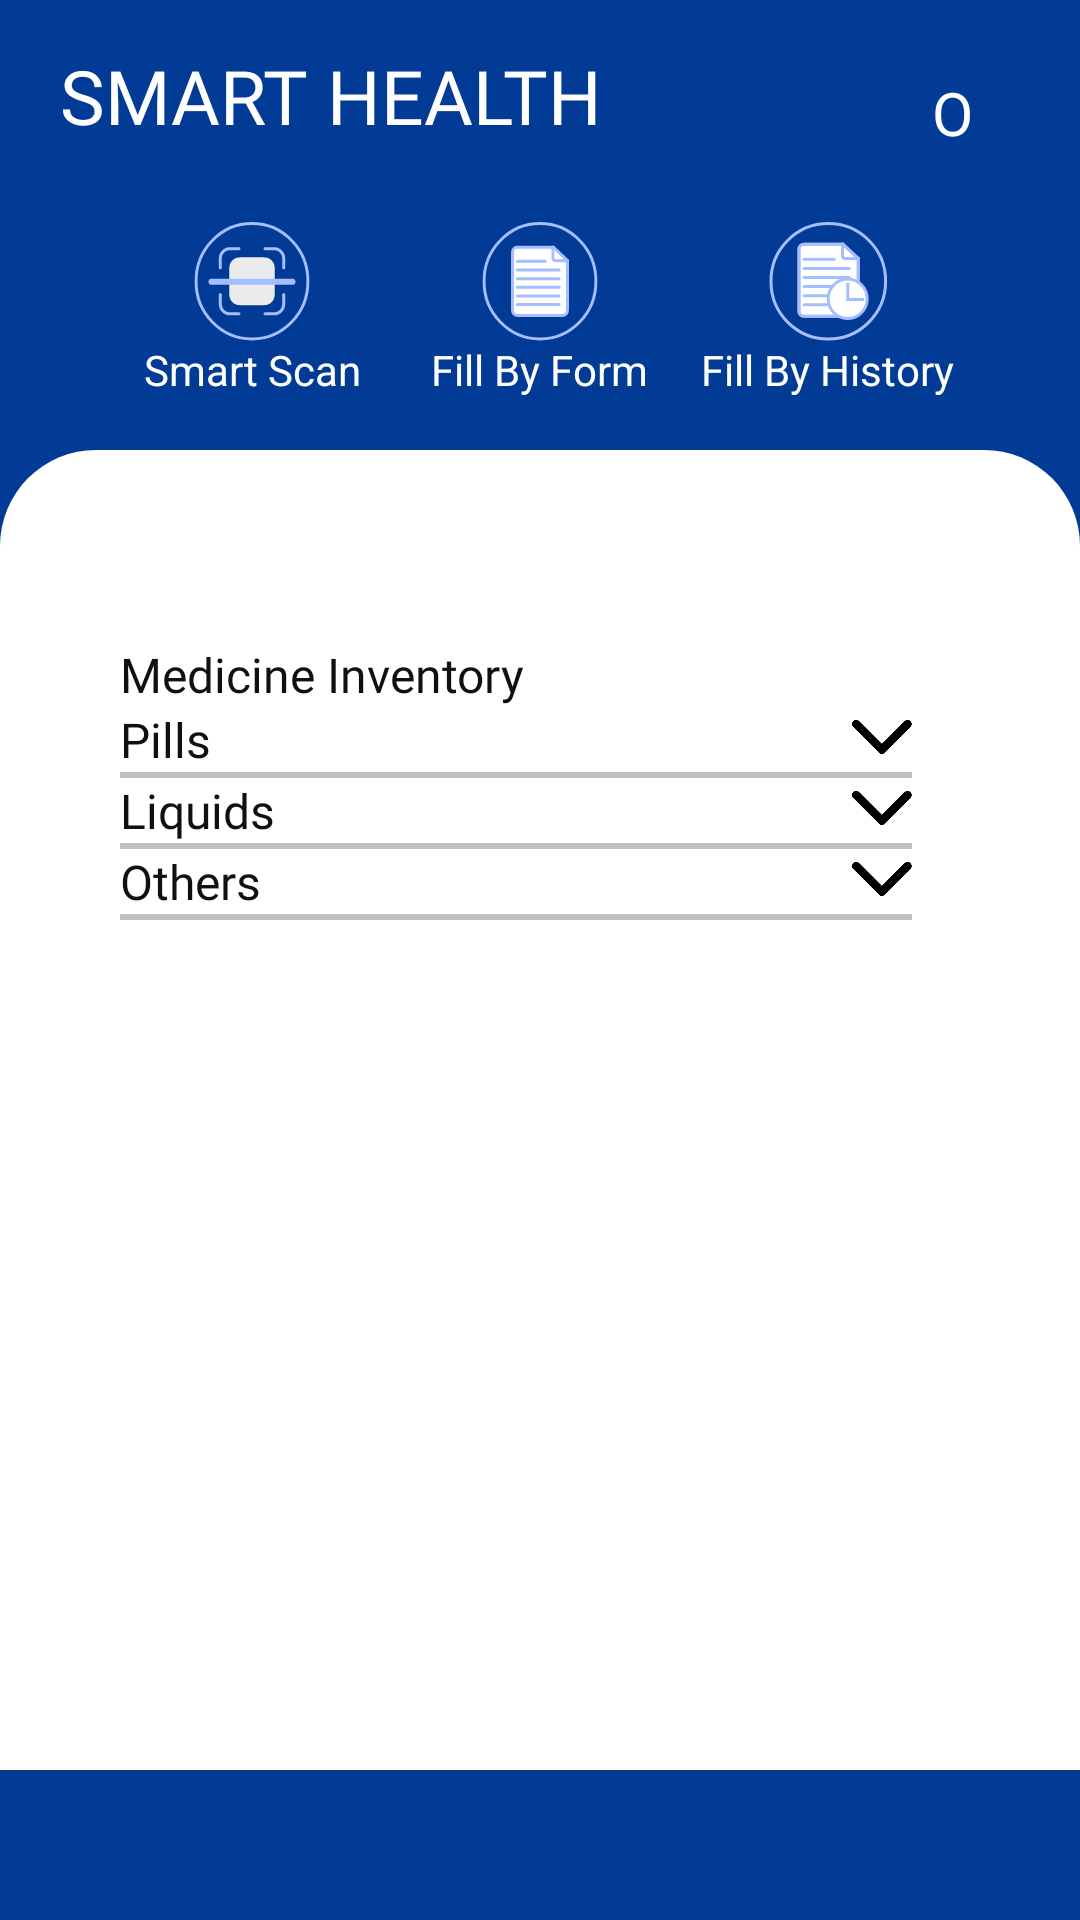

Screen size 1080 × 1920. Icon name, then its box in pixels as (x1, y1, x2, y2):
arrow down: (852, 720, 912, 754), (852, 791, 912, 825), (852, 862, 912, 896)
